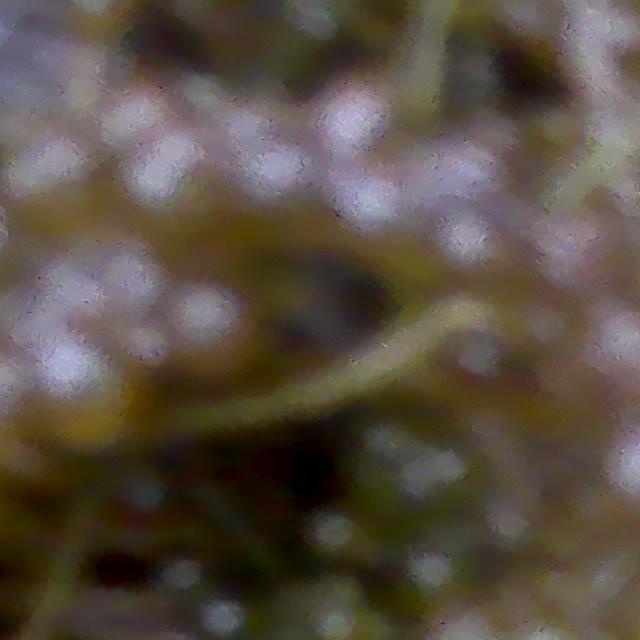SeaGrape: (52, 340, 124, 435), (107, 236, 172, 326), (242, 129, 310, 199), (338, 172, 405, 242), (440, 215, 512, 274), (133, 158, 198, 223), (186, 279, 240, 355), (324, 81, 382, 143), (449, 139, 500, 204), (119, 84, 166, 144), (42, 132, 89, 191), (47, 265, 96, 321)
